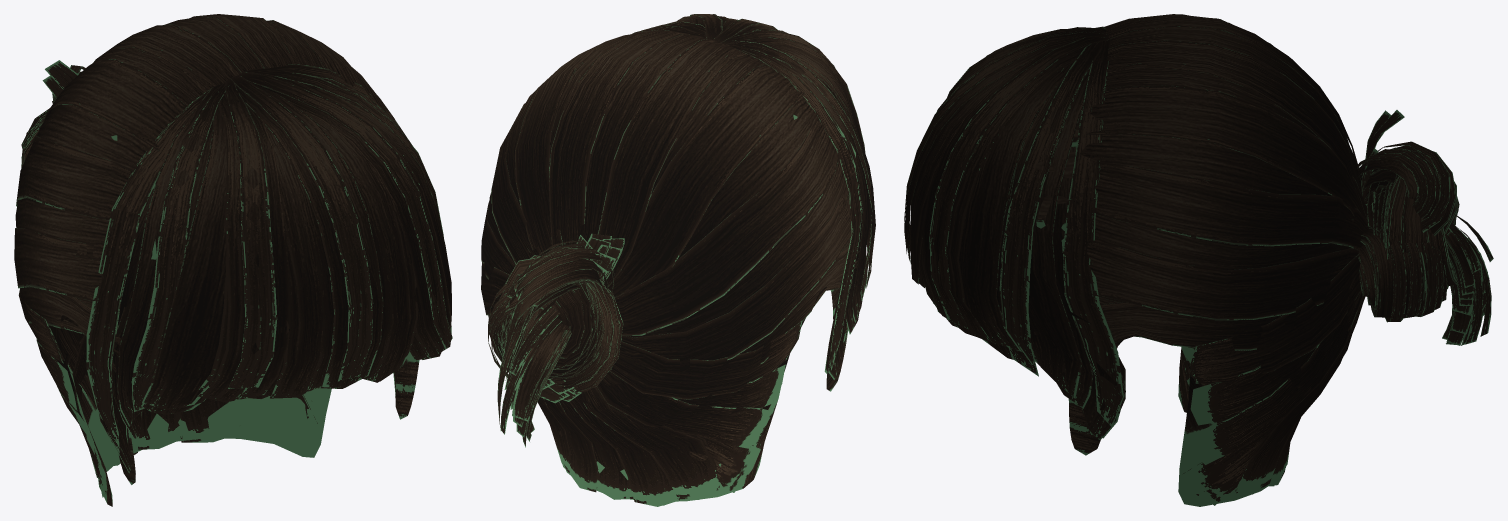
File: wHair.gltf
3 views of the same model, side by side, from view 1: azimuth 30°, elevation 25°; view 2: azimuth 150°, elevation 25°; view 3: azimuth 270°, elevation 25° (orthographic). The views are drawn at different scales.
Parts seen in each view (by area): view 1: wHair; view 2: wHair; view 3: wHair.
Part boxes in pixels (x1=…): wHair: x1=14, y1=14, x2=452, y2=506; wHair: x1=481, y1=14, x2=875, y2=506; wHair: x1=904, y1=14, x2=1493, y2=506.
Size of the model in its own units: 16.74 by 21.27 by 26.32.
Materials: 1 (1 with a texture image).
